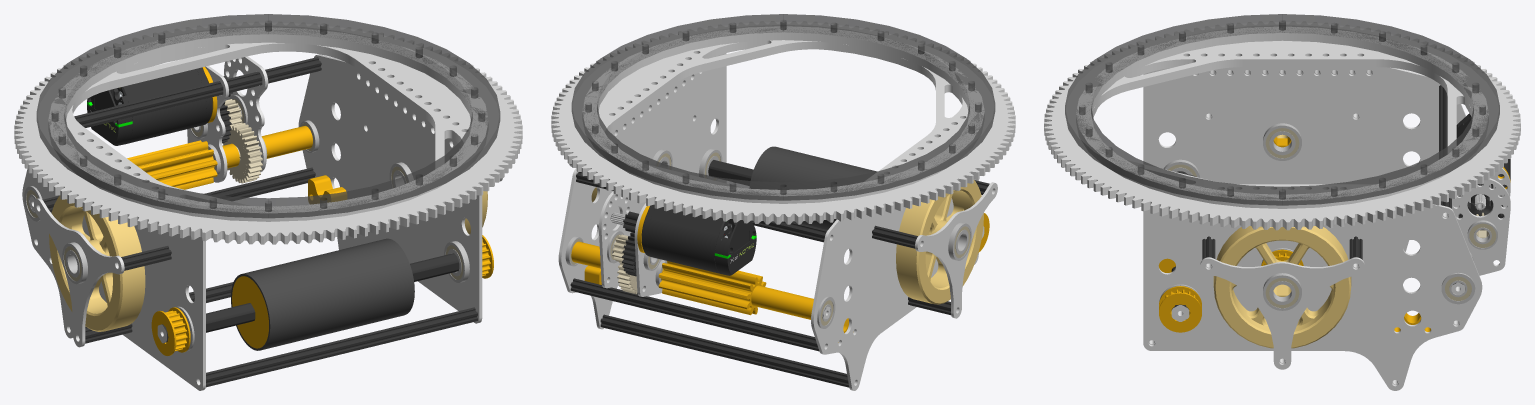
3 renders of one model, left to right at view 1: azimuth 30°, elevation 25°; view 2: azimuth 150°, elevation 25°; view 3: azimuth 270°, elevation 25°, orthographic. The views are drawn at different scales.
Visible parts, largest first — view 1: Spur gear (135 teeth), Upper Bearing, Side Plate, Middle Bearing, Part 3, 3/8" Hex Lite (8.5" L) (×4), Mirrored Side Plate, 4" Brass Flywheel (1/2" Triangle Bore), Kraken X44 Brushless Motor, Part 9, Spur gear (10 teeth), 1/2" Rounded Hex (10" L, 13.75mm OD) (+9 smaller); view 2: Spur gear (135 teeth), Upper Bearing, Middle Bearing, Side Plate, Mirrored Side Plate, 3/8" Hex Lite (8.5" L) (×3), Kraken X44 Brushless Motor, 4" Brass Flywheel (1/2" Triangle Bore), Part 3, Spur gear (10 teeth), Part 9, Hood Power Plate (+9 smaller); view 3: Mirrored Side Plate, Spur gear (135 teeth), Side Plate, Upper Bearing, Middle Bearing, 4" Brass Flywheel (1/2" Triangle Bore), Flywheel Capture Plate, Hood Power Plate, 1/2" Rounded Hex (13.75mm) ID Bearing (1.125" OD, 0.313" WD, (×2), 18t Custom HTD 5mm Pulley (0.5" Wide, *0.505" Hex Bore), 3/8" Rounded Hex (10.25mm) ID Bearing (0.875" OD, 0.281" WD, (×2), 3/8" Hex Lite (8.5" L) (+1 smaller).
Part boxes in pixels (left/top/right/bottom): Spur gear (135 teeth): left=14, top=21, right=522, bottom=244; Upper Bearing: left=36, top=14, right=500, bottom=218; Side Plate: left=298, top=54, right=482, bottom=323; Middle Bearing: left=48, top=27, right=488, bottom=221; Part 3: left=231, top=238, right=414, bottom=350; 3/8" Hex Lite (8.5" L) (×4): left=37, top=57, right=477, bottom=387; Mirrored Side Plate: left=22, top=168, right=205, bottom=390; 4" Brass Flywheel (1/2" Triangle Bore): left=49, top=195, right=145, bottom=331; Kraken X44 Brushless Motor: left=87, top=67, right=212, bottom=145; Part 9: left=34, top=198, right=124, bottom=347; Spur gear (10 teeth): left=127, top=140, right=217, bottom=189; 1/2" Rounded Hex (10" L, 13.75mm OD): left=157, top=253, right=459, bottom=343; Spur gear (135 teeth): left=551, top=21, right=1015, bottom=224; Upper Bearing: left=571, top=14, right=995, bottom=200; Middle Bearing: left=582, top=26, right=984, bottom=203; Side Plate: left=558, top=53, right=726, bottom=329; Mirrored Side Plate: left=811, top=179, right=978, bottom=390; 3/8" Hex Lite (8.5" L) (×3): left=570, top=172, right=849, bottom=387; Kraken X44 Brushless Motor: left=610, top=204, right=756, bottom=275; 4" Brass Flywheel (1/2" Triangle Bore): left=896, top=180, right=983, bottom=304; Part 3: left=750, top=146, right=877, bottom=229; Spur gear (10 teeth): left=658, top=261, right=766, bottom=315; Part 9: left=915, top=182, right=997, bottom=318; Hood Power Plate: left=599, top=191, right=634, bottom=288; Mirrored Side Plate: left=1143, top=67, right=1465, bottom=251; Spur gear (135 teeth): left=1044, top=21, right=1520, bottom=230; Side Plate: left=1143, top=204, right=1482, bottom=390; Upper Bearing: left=1065, top=14, right=1499, bottom=205; Middle Bearing: left=1076, top=26, right=1488, bottom=208; 4" Brass Flywheel (1/2" Triangle Bore): left=1213, top=226, right=1351, bottom=348; Flywheel Capture Plate: left=1200, top=257, right=1364, bottom=369; Hood Power Plate: left=1452, top=178, right=1510, bottom=275; 1/2" Rounded Hex (13.75mm) ID Bearing (1.125" OD, 0.313" WD, (×2): left=1263, top=123, right=1301, bottom=310; 18t Custom HTD 5mm Pulley (0.5" Wide, *0.505" Hex Bore): left=1159, top=286, right=1201, bottom=332; 3/8" Rounded Hex (10.25mm) ID Bearing (0.875" OD, 0.281" WD, (×2): left=1441, top=220, right=1497, bottom=304; 3/8" Hex Lite (8.5" L): left=1439, top=85, right=1451, bottom=217.
Bounding box in the file's own units: 0.348 × 0.1781 × 0.348.
